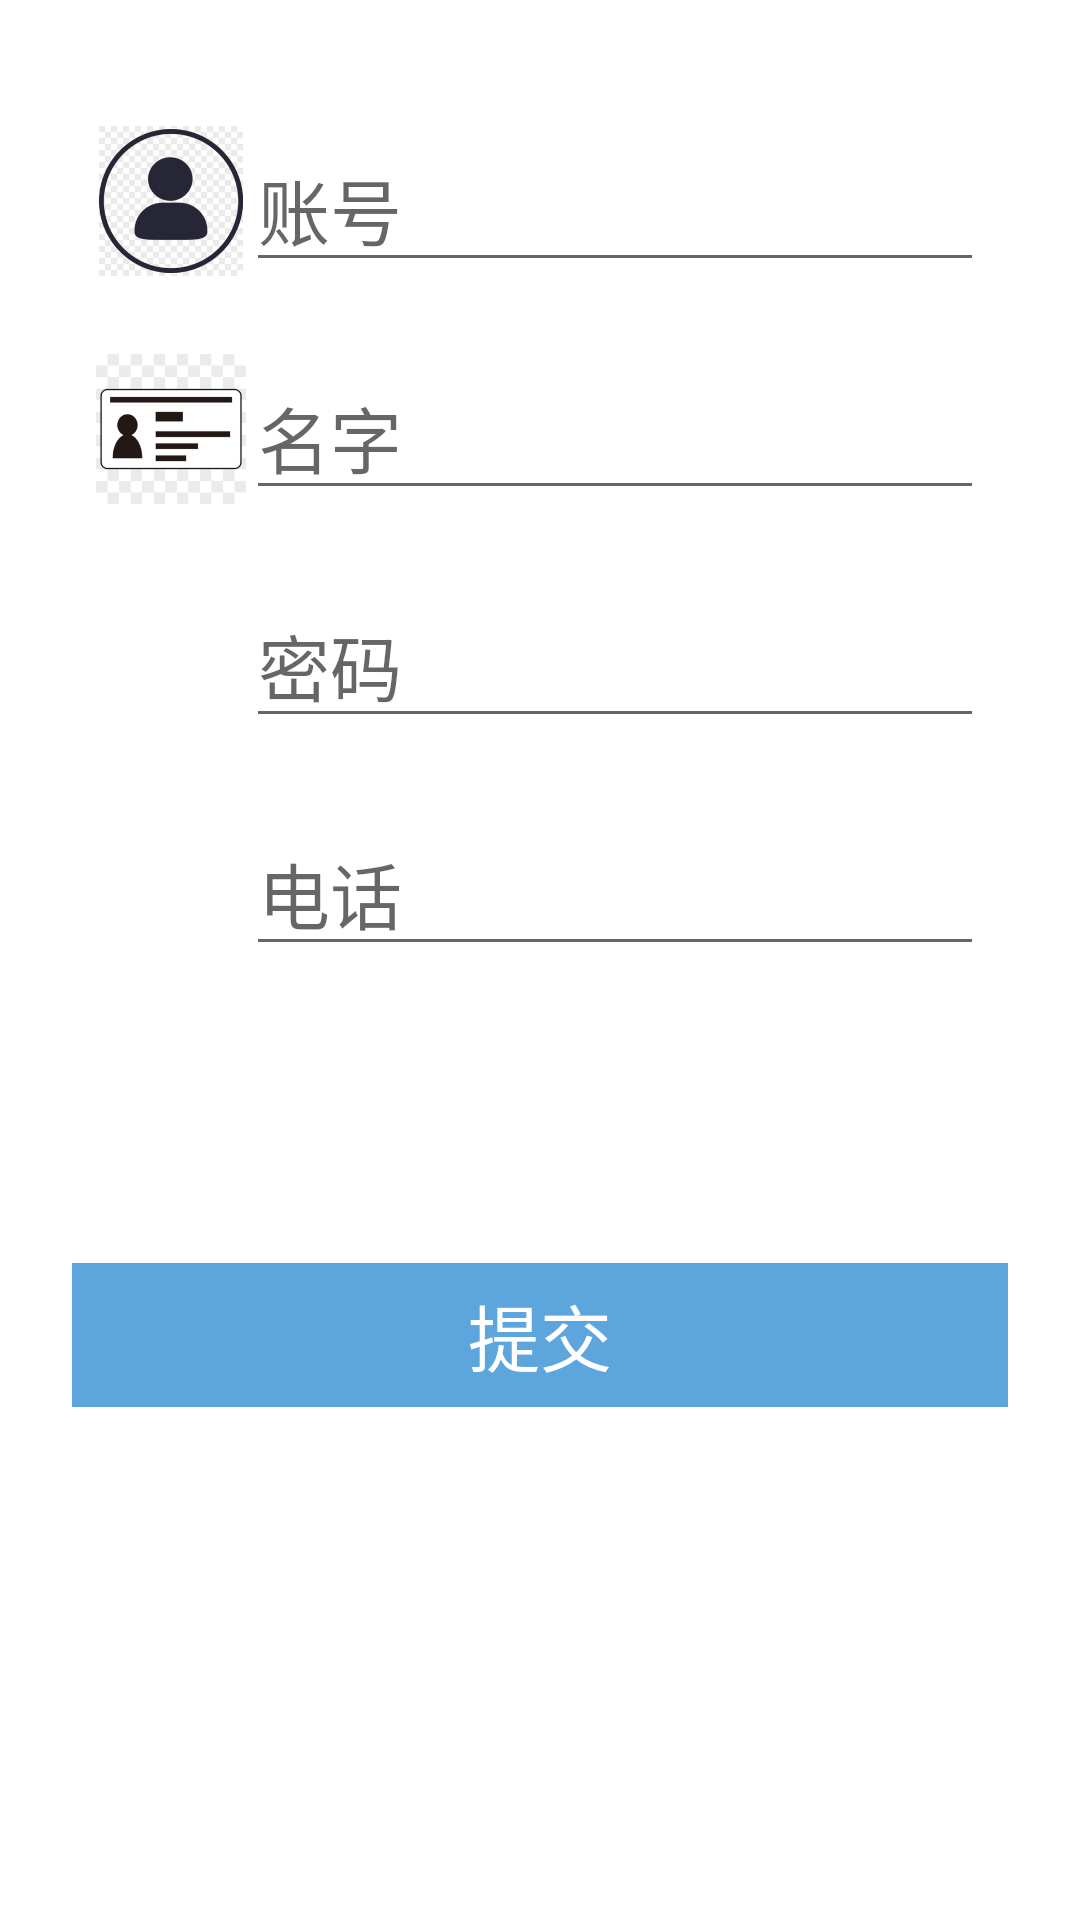

Where to tap for icons on this 1080x1920 app screen, as point (x, y):
account: point (171, 201)
